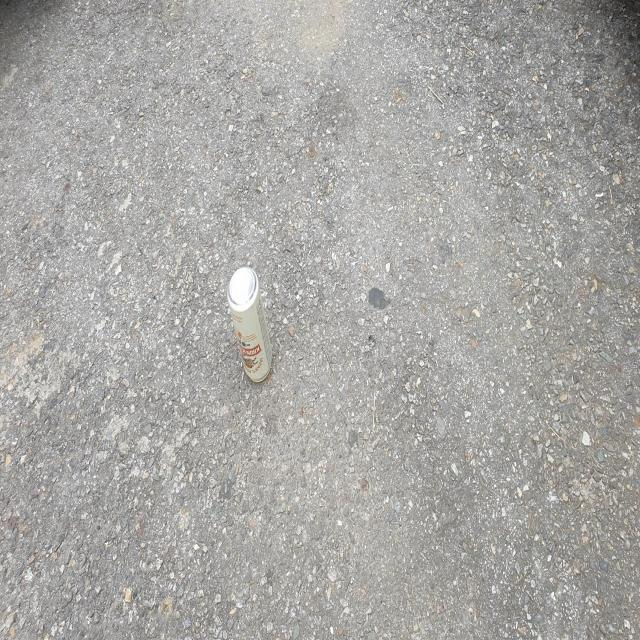can: (227, 266, 272, 382)
